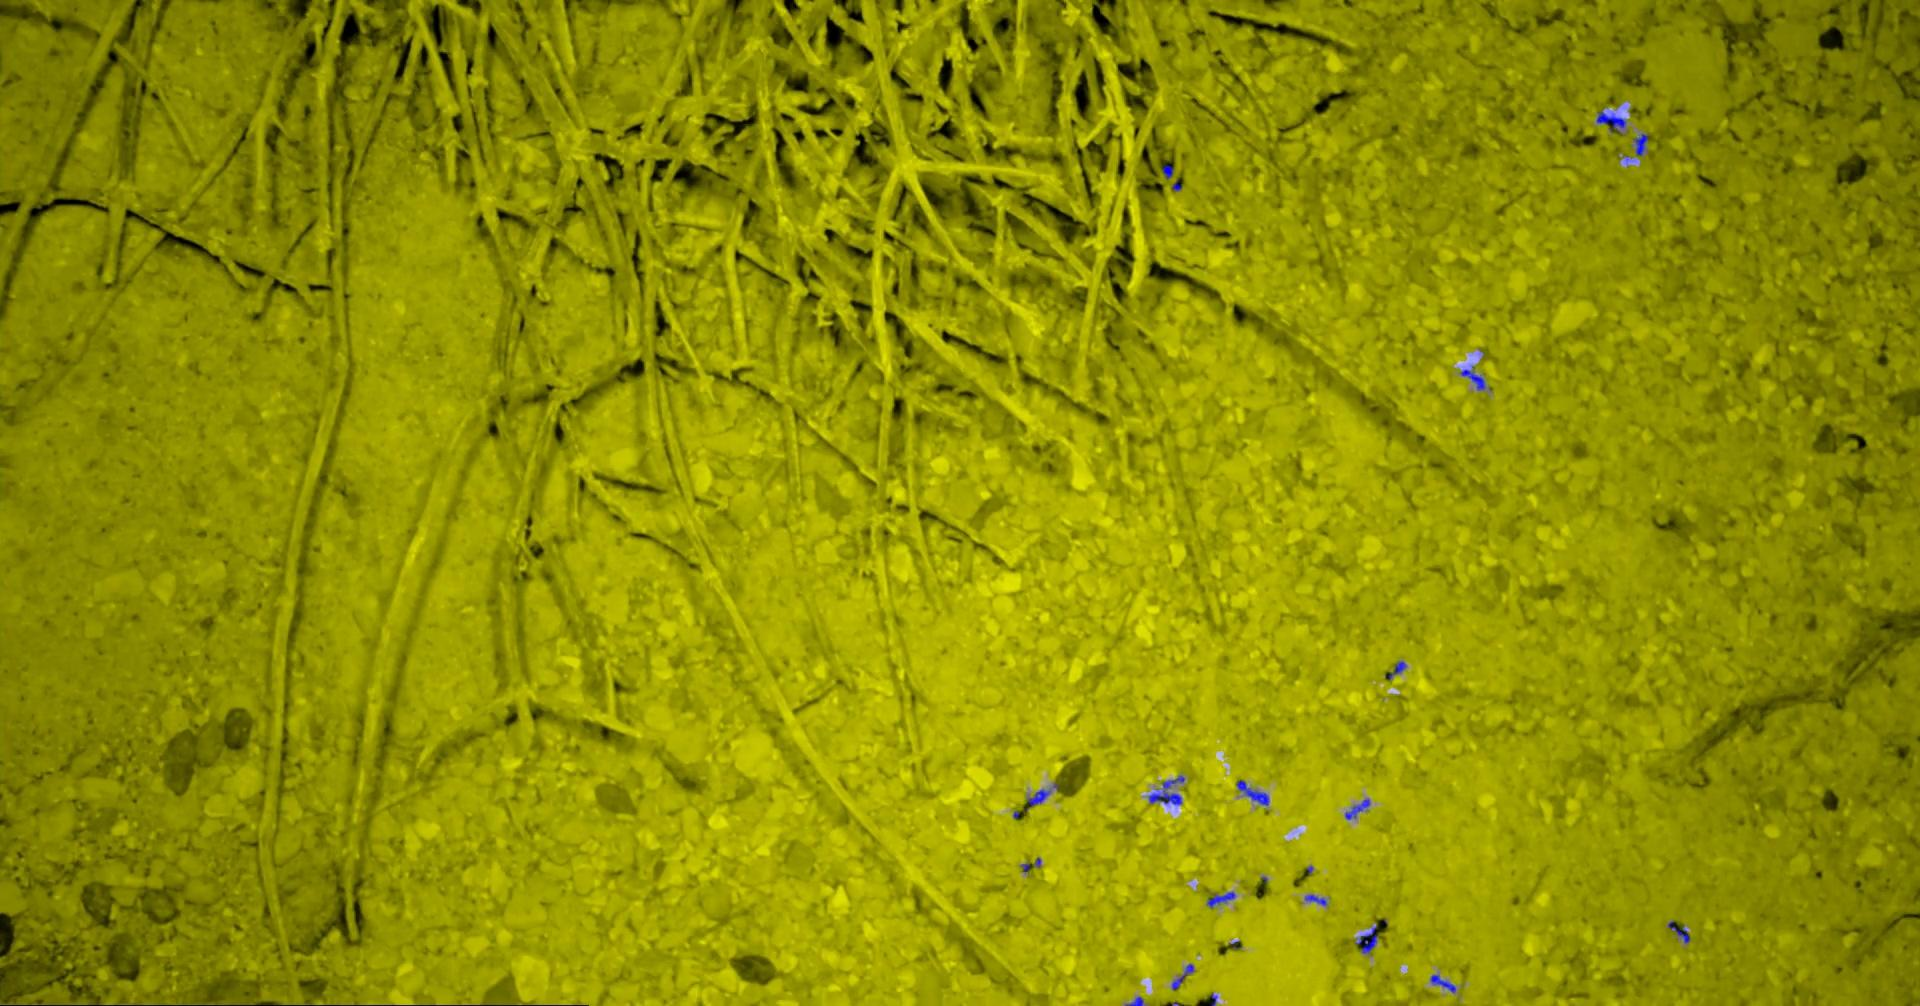ant: (1148, 775, 1183, 804), (1236, 780, 1269, 805), (1596, 111, 1625, 133), (1355, 925, 1377, 953), (1171, 963, 1192, 989), (1460, 366, 1484, 389), (1343, 798, 1369, 819), (1667, 920, 1689, 942), (1206, 890, 1236, 907), (1430, 974, 1455, 992), (1384, 661, 1406, 680), (1026, 789, 1050, 805), (1633, 133, 1647, 155), (1304, 894, 1326, 904), (1161, 164, 1173, 178)
